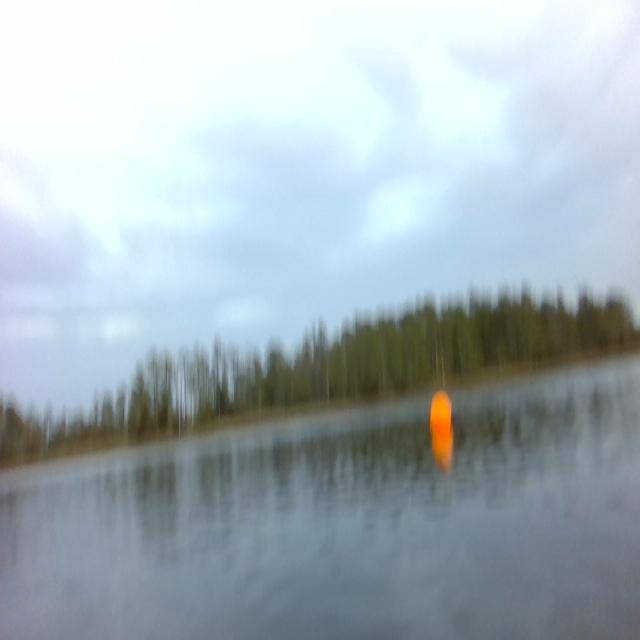Buoy: (425, 384, 458, 439)
